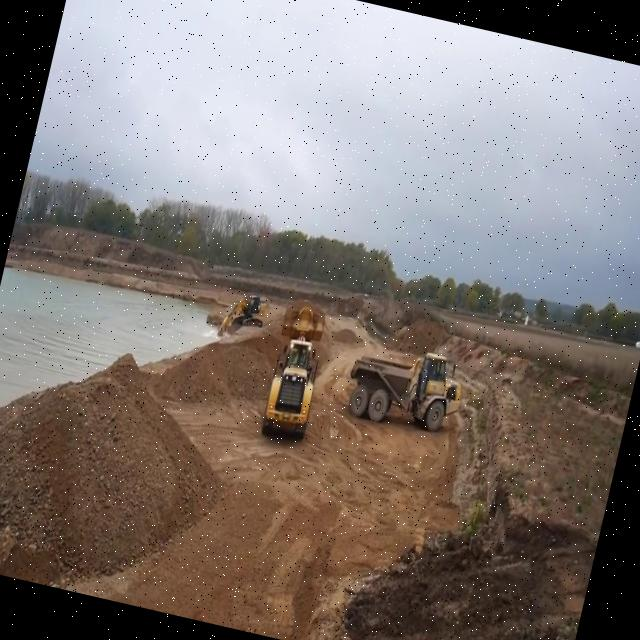Dump Truck: (338, 330, 472, 440)
Excavator: (212, 286, 270, 348)
Loader: (254, 292, 336, 446)
